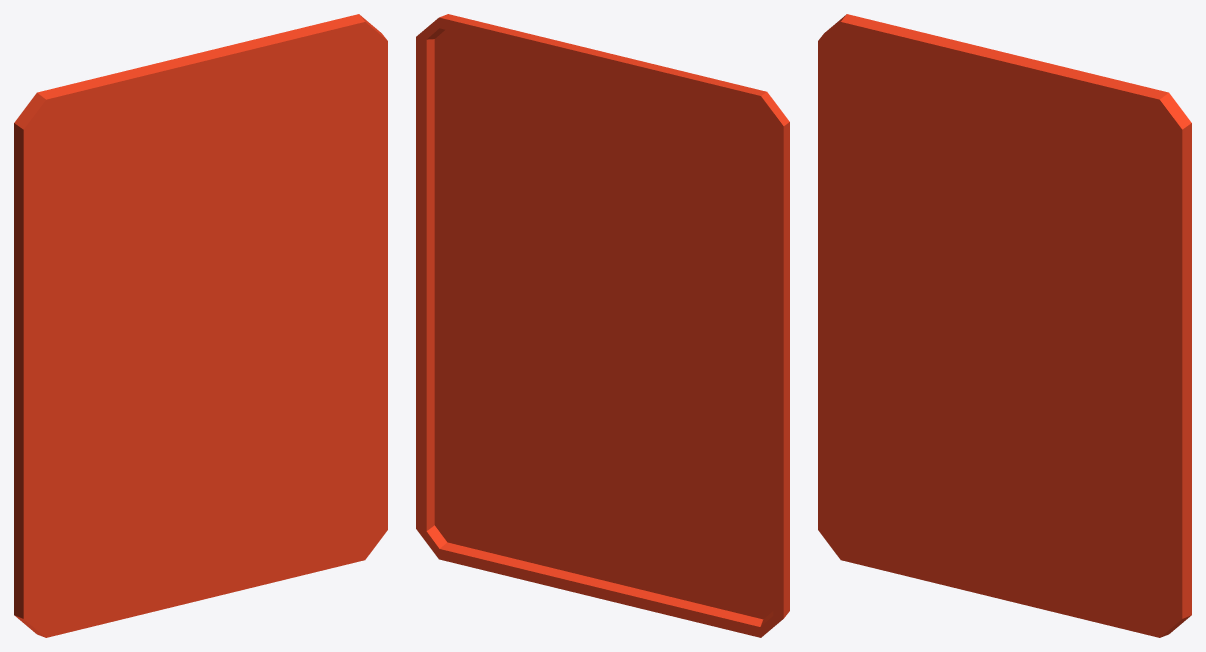
The model's file is SM_Sign_Speed_10_A_City.fbx.
3 views of the same model, side by side, from view 1: azimuth 30°, elevation 25°; view 2: azimuth 150°, elevation 25°; view 3: azimuth 330°, elevation 25° (orthographic).
Parts seen in each view (by area): view 1: SM_Sign_Speed_10_A_City; view 2: SM_Sign_Speed_10_A_City; view 3: SM_Sign_Speed_10_A_City.
Boxes of the visible parts, x1,y1,x2,y2 form: SM_Sign_Speed_10_A_City: (14,14,387,637); SM_Sign_Speed_10_A_City: (416,14,789,637); SM_Sign_Speed_10_A_City: (818,14,1191,637).
Size of the model in its own units: 0.5876 by 0.8275 by 0.0215.
